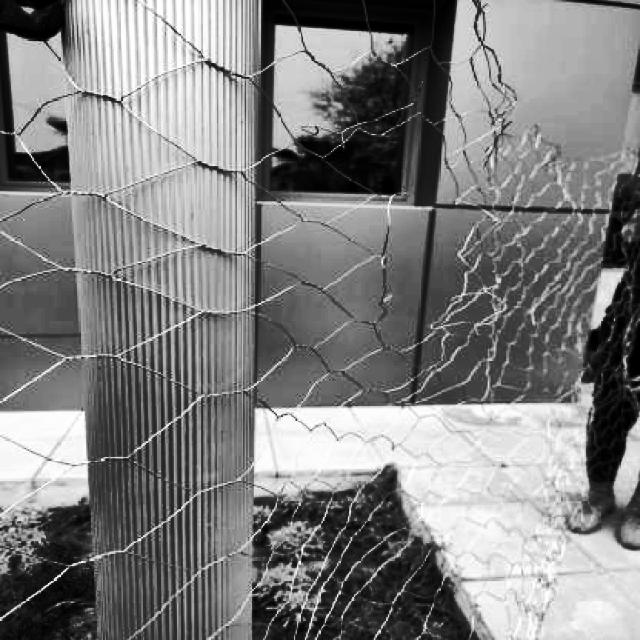anomaly-fence: (369, 6, 640, 640)
